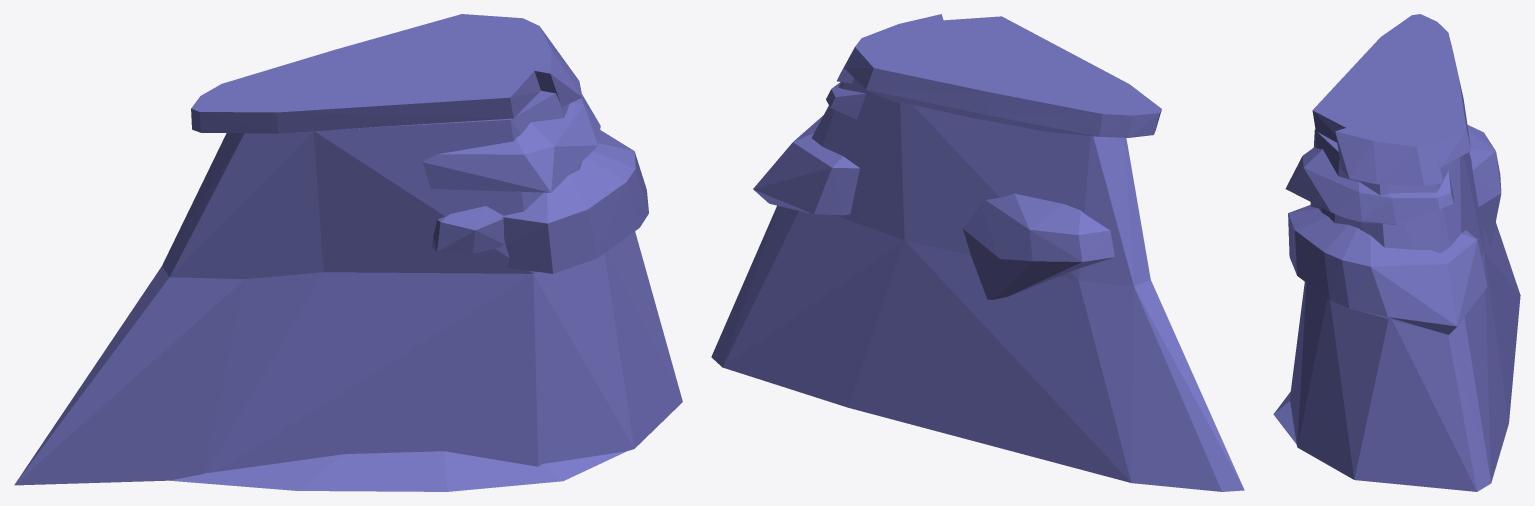
The model's file is Cliff_Plateau_02_Taper_Collider_01.FBX.
The picture shows the model from 3 angles, left to right: view 1: azimuth 30°, elevation 25°; view 2: azimuth 150°, elevation 25°; view 3: azimuth 270°, elevation 25°; orthographic projection. The views are drawn at different scales.
Parts seen in each view (by area): view 1: COLLIDER3, COLLIDER10, COLLIDER1, COLLIDER9, COLLIDER11, COLLIDER6, COLLIDER8, COLLIDER7, COLLIDER4, COLLIDER2; view 2: COLLIDER3, COLLIDER9, COLLIDER1, COLLIDER10, COLLIDER5, COLLIDER11, COLLIDER6, COLLIDER2, COLLIDER7; view 3: COLLIDER3, COLLIDER6, COLLIDER1, COLLIDER9, COLLIDER7, COLLIDER2, COLLIDER5, COLLIDER8.
Boxes of the visible parts, bbox=[...] form: COLLIDER3: bbox=[206, 231, 682, 472]; COLLIDER10: bbox=[14, 266, 323, 485]; COLLIDER1: bbox=[191, 14, 540, 133]; COLLIDER9: bbox=[313, 66, 599, 273]; COLLIDER11: bbox=[162, 131, 323, 279]; COLLIDER6: bbox=[502, 130, 648, 273]; COLLIDER8: bbox=[170, 451, 626, 491]; COLLIDER7: bbox=[422, 94, 600, 192]; COLLIDER4: bbox=[432, 206, 503, 253]; COLLIDER2: bbox=[523, 18, 582, 106]; COLLIDER3: bbox=[711, 205, 1131, 482]; COLLIDER9: bbox=[812, 78, 1090, 280]; COLLIDER1: bbox=[844, 16, 1161, 137]; COLLIDER10: bbox=[1078, 279, 1244, 491]; COLLIDER5: bbox=[963, 193, 1114, 299]; COLLIDER11: bbox=[1078, 136, 1150, 286]; COLLIDER6: bbox=[753, 115, 859, 215]; COLLIDER2: bbox=[837, 14, 943, 83]; COLLIDER7: bbox=[826, 82, 865, 119]; COLLIDER3: bbox=[1289, 222, 1520, 491]; COLLIDER6: bbox=[1288, 205, 1487, 334]; COLLIDER1: bbox=[1312, 14, 1471, 167]; COLLIDER9: bbox=[1310, 129, 1483, 257]; COLLIDER7: bbox=[1285, 147, 1453, 225]; COLLIDER2: bbox=[1335, 128, 1443, 185]; COLLIDER5: bbox=[1467, 124, 1501, 245]; COLLIDER8: bbox=[1273, 392, 1296, 443].
Bounding box in the file's own units: 1148 × 661 × 505.
